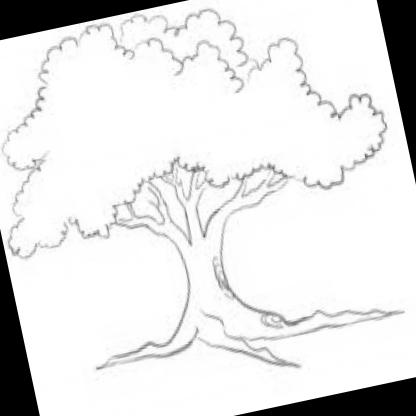branch_cut: (106, 147, 298, 266)
crown_cloud: (0, 0, 398, 261)
knot: (208, 249, 230, 294), (258, 307, 286, 331)
root_upside: (107, 280, 369, 416)
trunk_straight: (174, 236, 236, 306)
